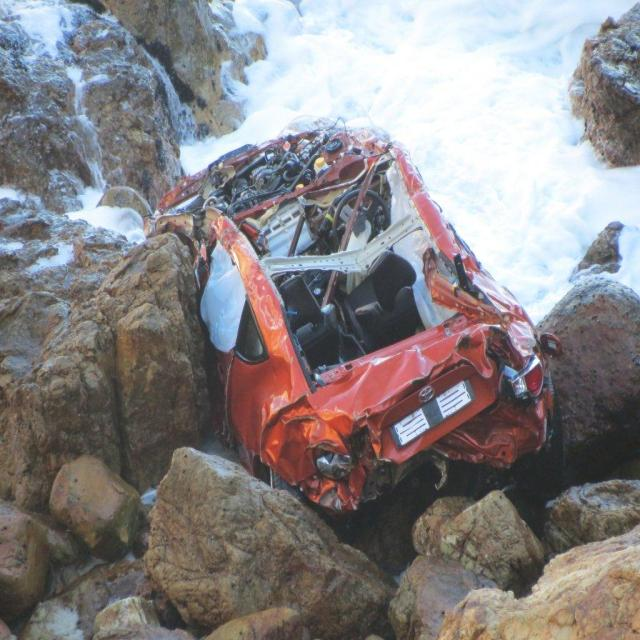crush: (145, 112, 553, 524)
